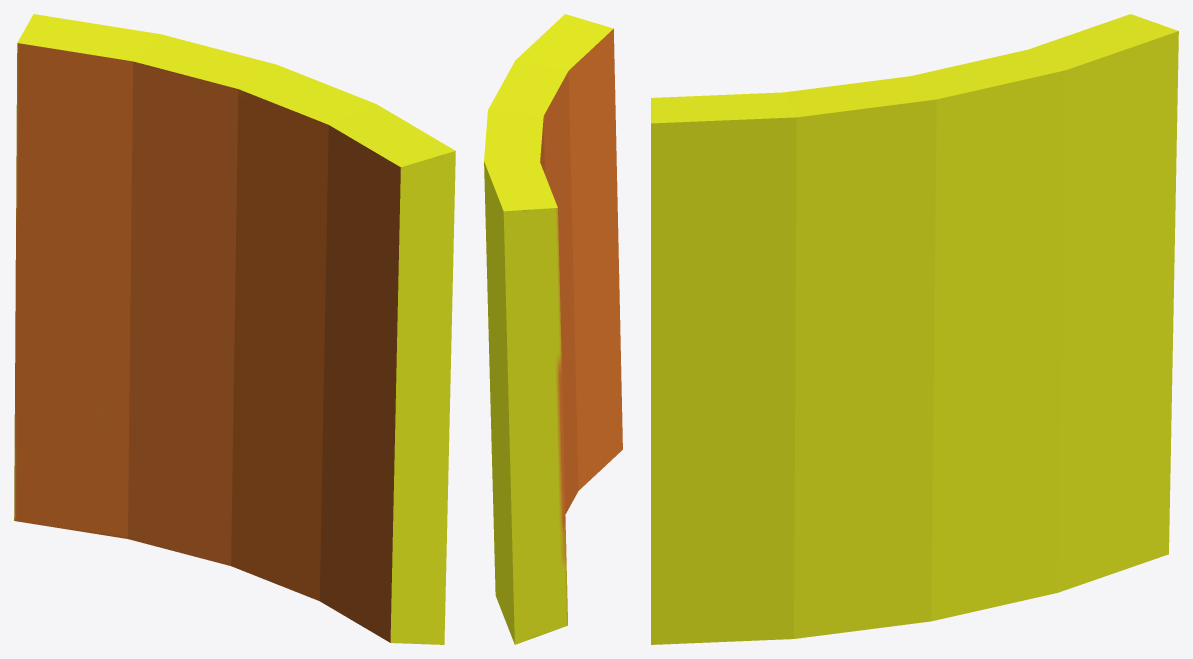
Rendered from Level_1_6.obj.
3 renders of one model, left to right at view 1: azimuth 30°, elevation 25°; view 2: azimuth 150°, elevation 25°; view 3: azimuth 270°, elevation 25°, orthographic. The views are drawn at different scales.
Visible parts, largest first — view 1: Level_1_6_Cylinder.016; view 2: Level_1_6_Cylinder.016; view 3: Level_1_6_Cylinder.016.
Boxes of the visible parts, x1,y1,x2,y2 form: Level_1_6_Cylinder.016: (14, 14, 455, 644); Level_1_6_Cylinder.016: (484, 14, 622, 644); Level_1_6_Cylinder.016: (651, 14, 1178, 644).
Bounding box in the file's own units: 0.8892 × 1.88 × 1.7.
